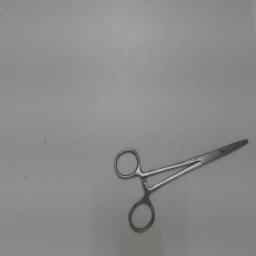Mayo Needle Holder: (111, 132, 253, 238)
